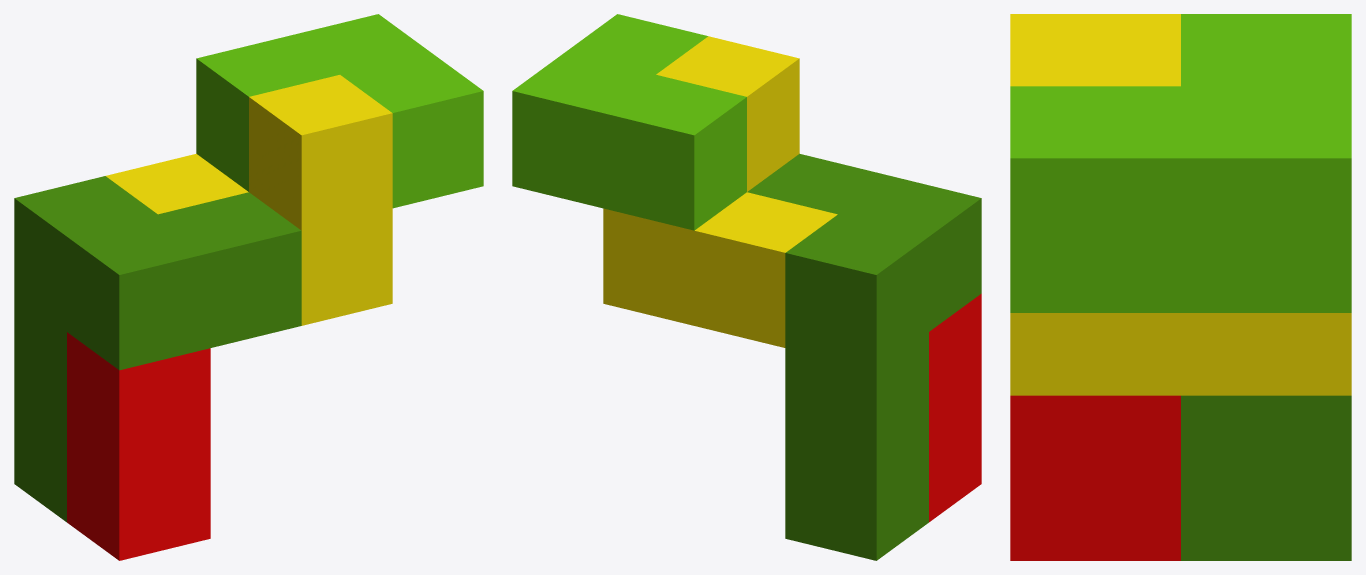
The picture shows the model from 3 angles, left to right: view 1: azimuth 30°, elevation 25°; view 2: azimuth 150°, elevation 25°; view 3: azimuth 270°, elevation 25°; orthographic projection. The views are drawn at different scales.
Visible parts, largest first — view 1: mergedBlocks(Clone); view 2: mergedBlocks(Clone); view 3: mergedBlocks(Clone).
Part boxes in pixels (box(x1,y1,x2,y2)): mergedBlocks(Clone): box(14, 14, 483, 560); mergedBlocks(Clone): box(512, 14, 981, 560); mergedBlocks(Clone): box(1010, 14, 1351, 560).
Bounding box in the file's own units: 4 × 4 × 2.
Materials: 4 (4 with a texture image).
